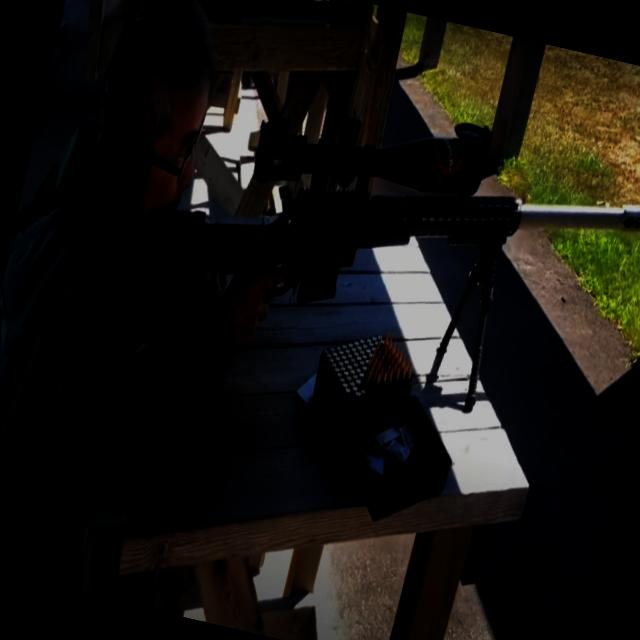rifle: (85, 38, 640, 479)
